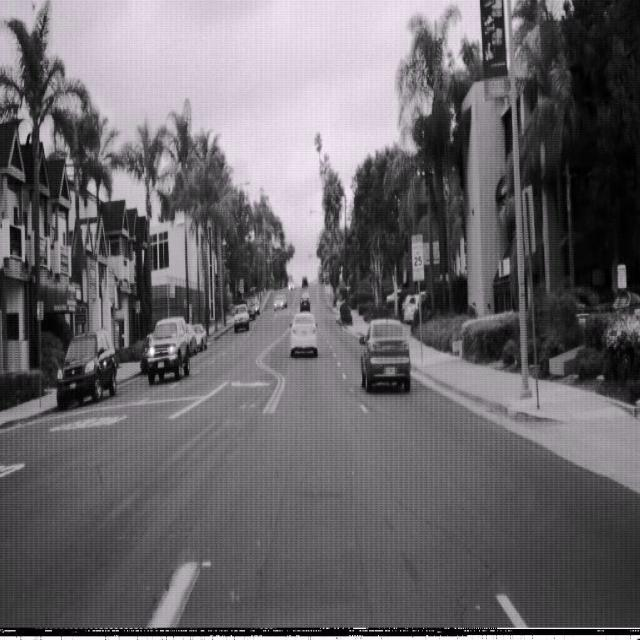speedLimit25: (411, 233, 425, 282)
